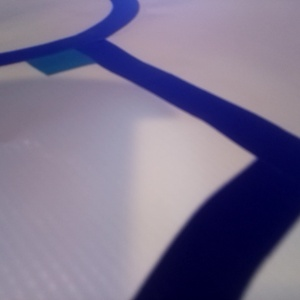bottom_right: (141, 7, 221, 32)
